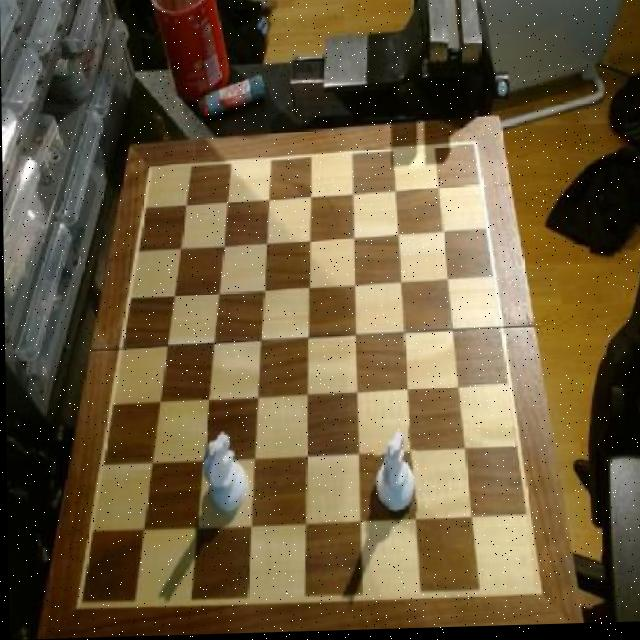white-king: (201, 433, 249, 520), (373, 429, 418, 518)
